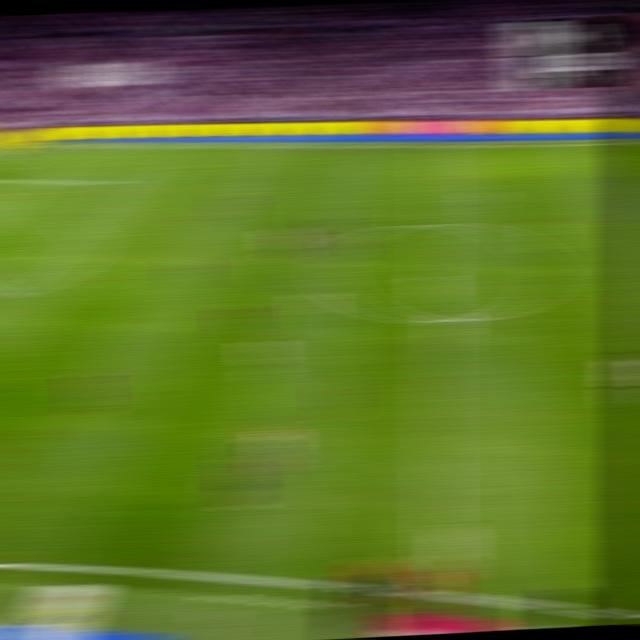bigarea_top_inner: (107, 175, 136, 189)
bottom_arc_area_intersection: (0, 285, 17, 302)
halfcircle_bottom: (420, 308, 452, 331)
halfcircle_top: (419, 213, 452, 234)
midline_top_intersection: (421, 138, 449, 152)
top_arc_area_intersection: (61, 218, 91, 232)
